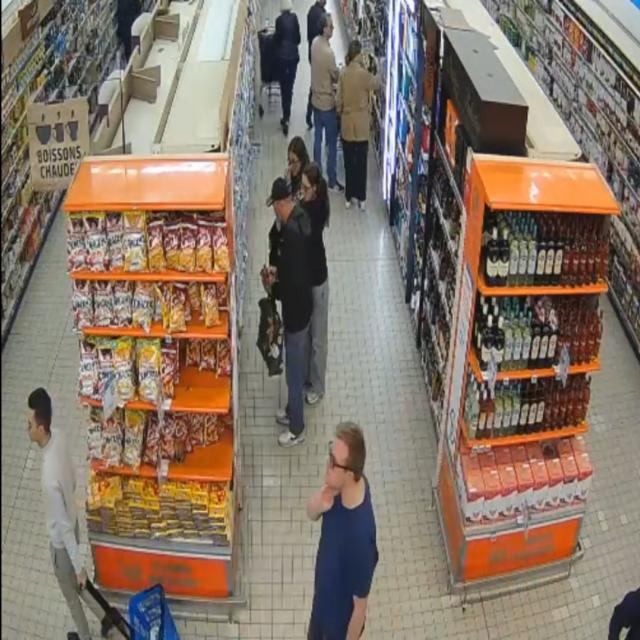article: (260, 264, 267, 279)
bags: (257, 297, 283, 376)
hands: (317, 485, 340, 513), (76, 568, 88, 590), (261, 273, 270, 289), (267, 267, 277, 276)
person: (28, 389, 111, 639), (308, 423, 378, 639), (267, 178, 312, 447), (337, 40, 380, 208), (302, 163, 329, 405), (312, 13, 343, 191), (274, 0, 301, 135), (285, 136, 310, 202), (285, 137, 310, 202), (117, 0, 141, 63)
